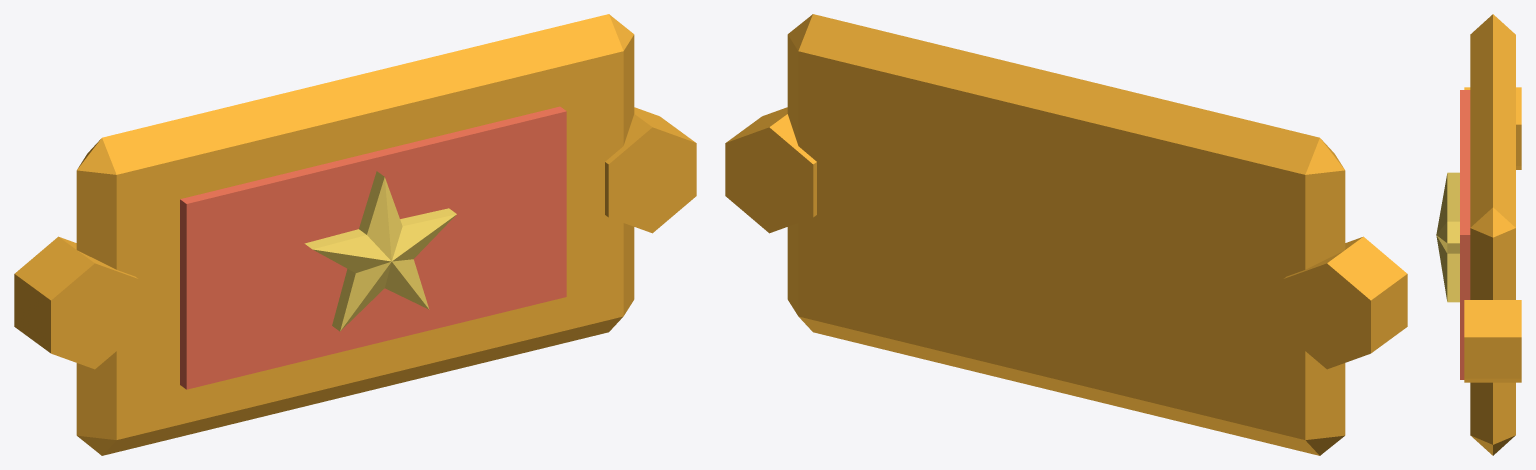
Rendered from good_ticket.glb.
3 views of the same model, side by side, from view 1: azimuth 30°, elevation 25°; view 2: azimuth 150°, elevation 25°; view 3: azimuth 270°, elevation 25° (orthographic). The views are drawn at different scales.
Parts seen in each view (by area): view 1: good_ticket; view 2: good_ticket; view 3: good_ticket.
Part boxes in pixels (x1=…): good_ticket: x1=14, y1=14, x2=696, y2=455; good_ticket: x1=725, y1=14, x2=1407, y2=455; good_ticket: x1=1436, y1=14, x2=1521, y2=455.
Bounding box in the file's own units: 0.2546 × 0.12 × 0.0373.
